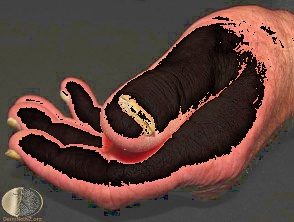Nail_psoriasis: (110, 88, 167, 137), (4, 114, 27, 135), (56, 85, 77, 107), (3, 144, 26, 161)
